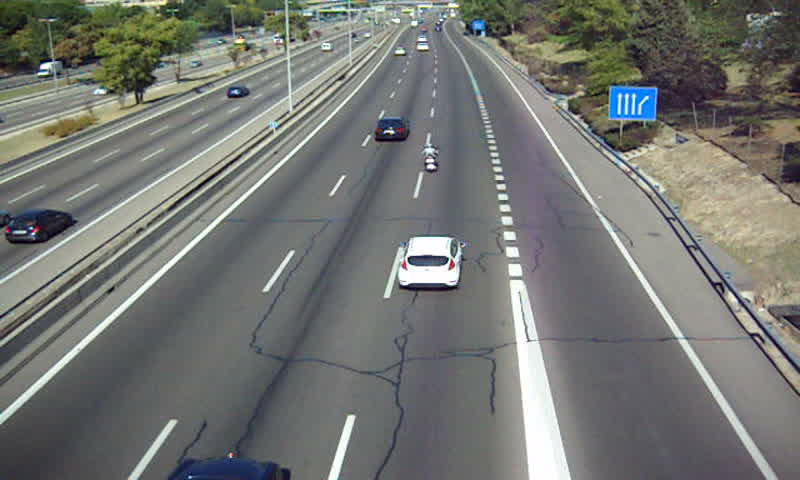car: (398, 236, 462, 290), (373, 117, 410, 142)
motorcycle: (420, 142, 440, 173)
